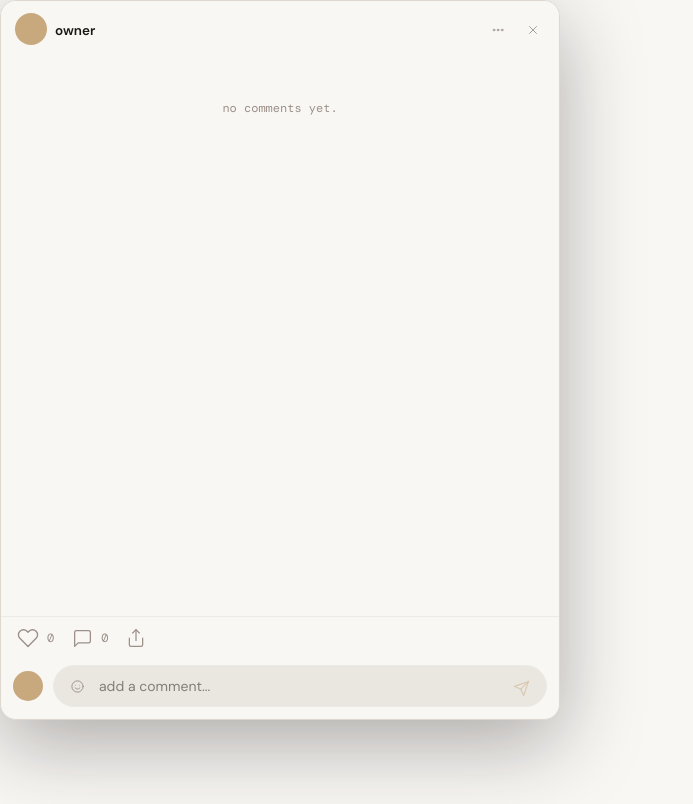
it: PostDetailScreen hidden comments entry › does not offer it to anyone else
Click the button named "post options" at (498,30), box [486,18,510,42]
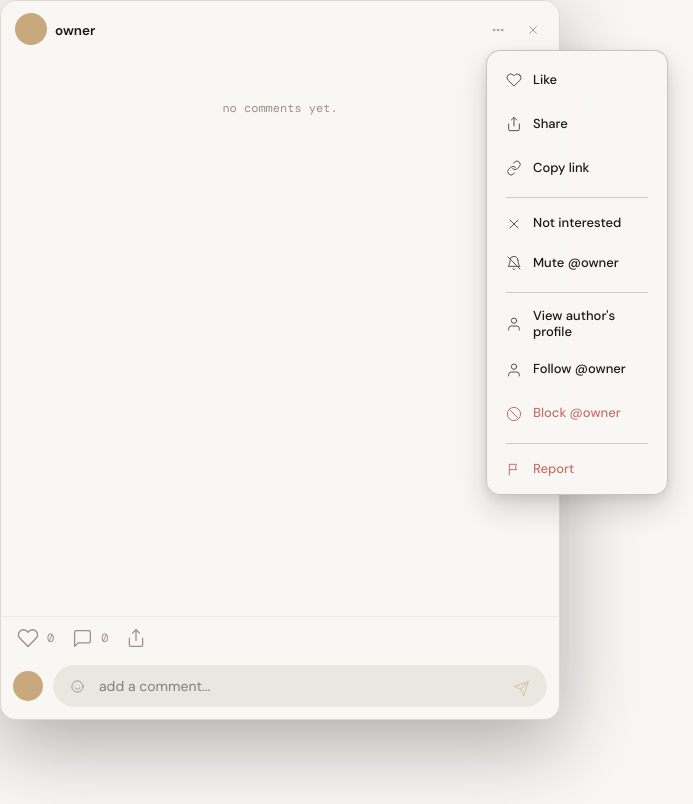
Check: the button "Copy link" is shown, box [494,146,660,190]
